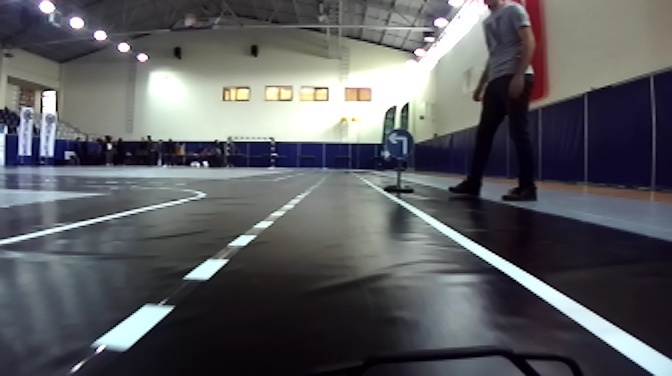sola_donus: (384, 130, 415, 157)
